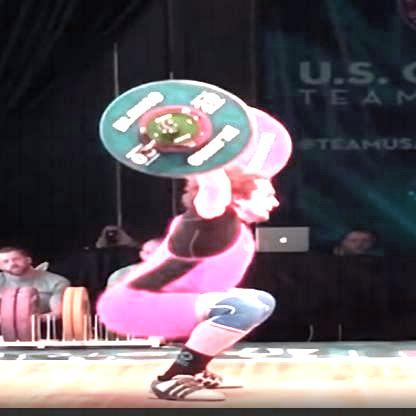Barbell: (154, 121, 183, 135)
